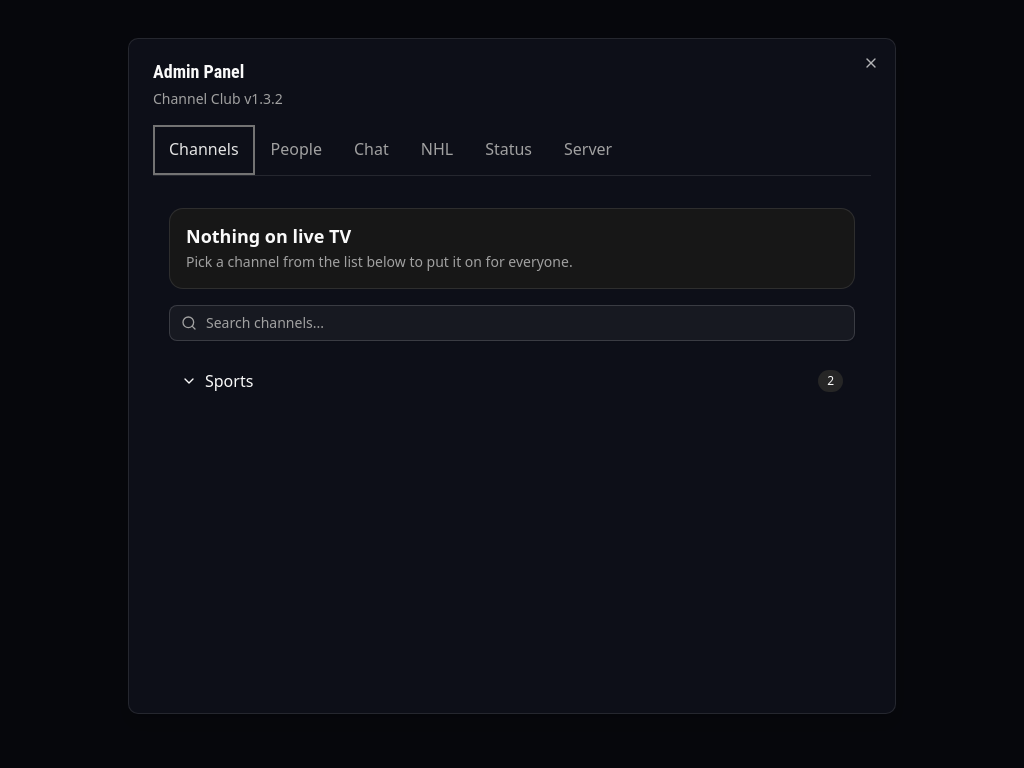
it: AdminModal › Channels tab integration (Story 11.2) › shows ChannelList component in Channels tab (AC #1)
This screenshot has width=1024, height=768.
Expand the group to see channels
Click the text "Sports": (229,381) [205,369,253,393]
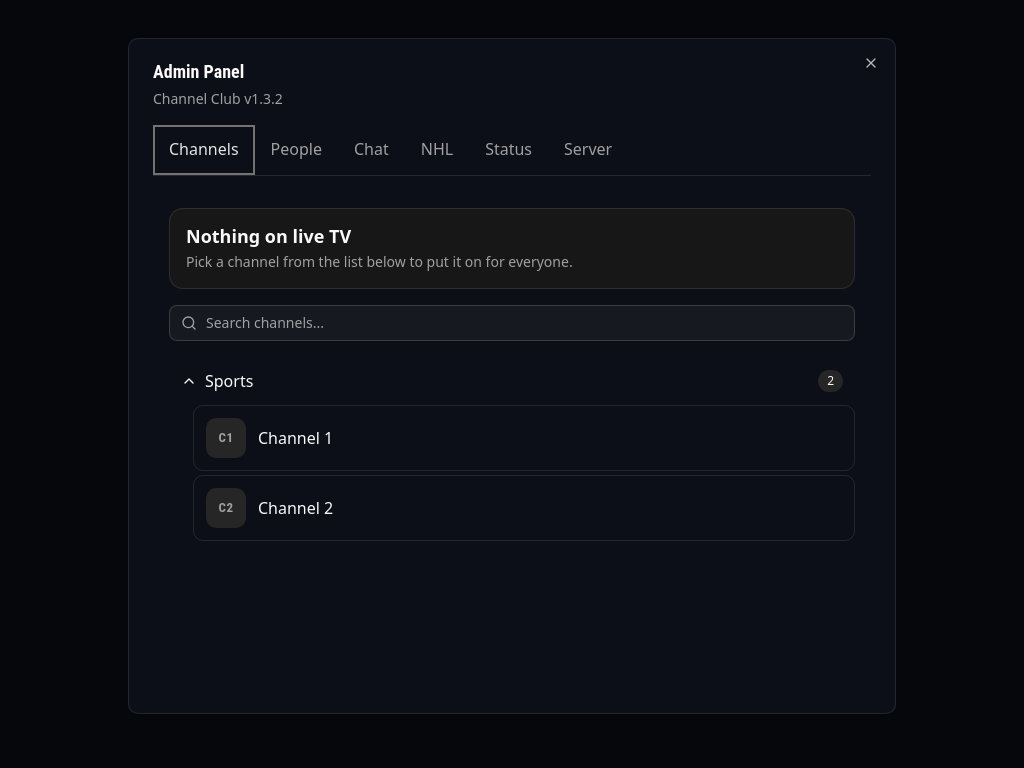
Check: the text "Channel 1" is shown, box [258,426,333,450]
Check: the text "Channel 2" is shown, box [258,496,333,520]
